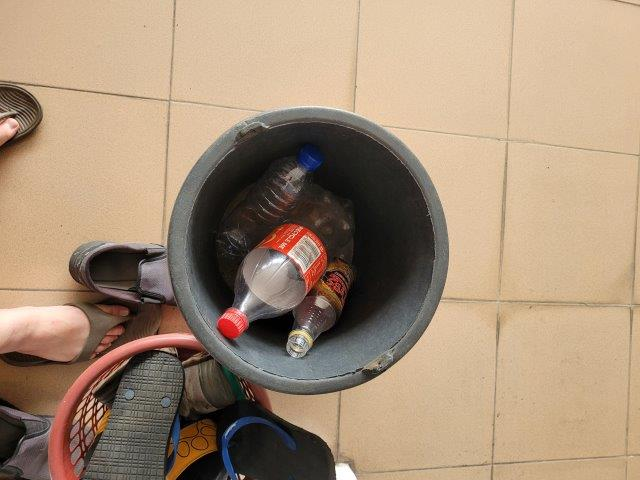botolplastik: (217, 192, 355, 352), (214, 147, 318, 253), (287, 256, 360, 356)
